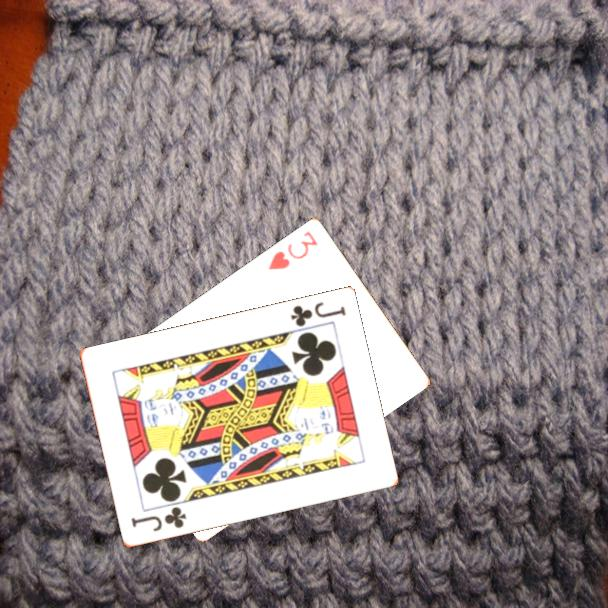c11: (127, 503, 189, 535), (287, 299, 348, 330)
h03: (265, 227, 321, 273)
